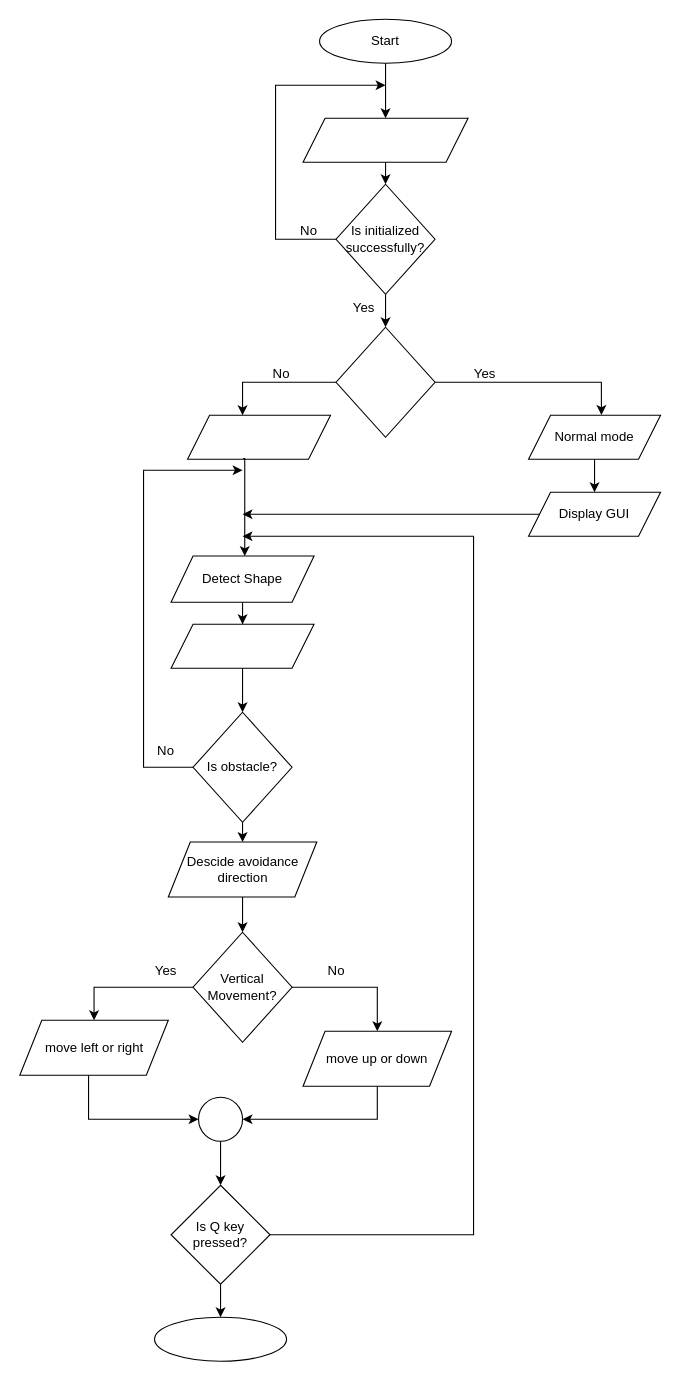
Some shapes in this 680 by 1381 pixel diagram are drawn without their labels. The shapes that lost their labels are listed below. From the top down, each one's centre as x and y in pixels, then its label:
the point at 385,139: Initialize Video Stream
the point at 385,381: Enable animation
the point at 258,436: Performance mode
the point at 242,645: Classify Shape
the point at 220,1338: End
